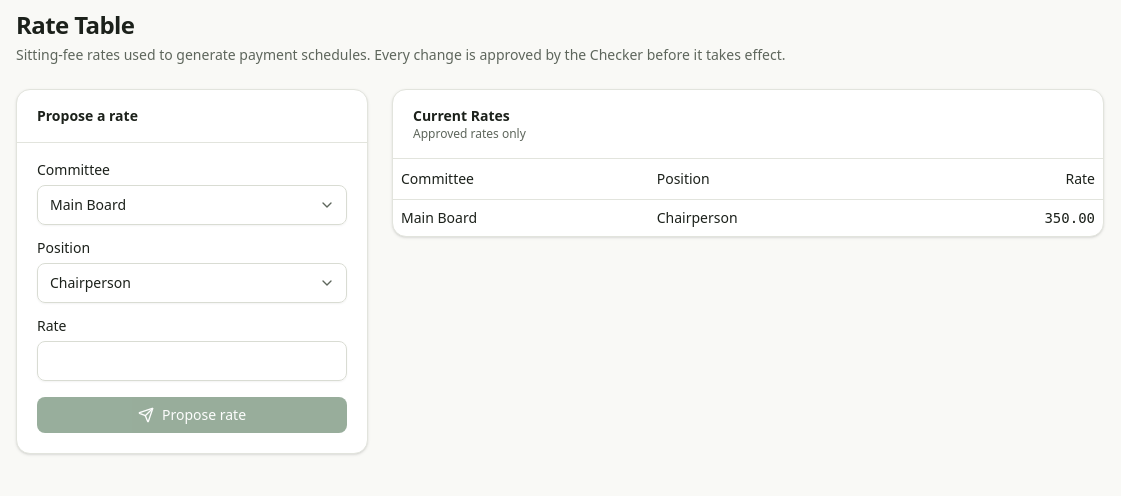
Test case: AdminRateTable › shows an inline, labelled validation error per field on a 400 response
In the number field labelled "Rate": (192, 361) [37, 341, 347, 381], type "400"
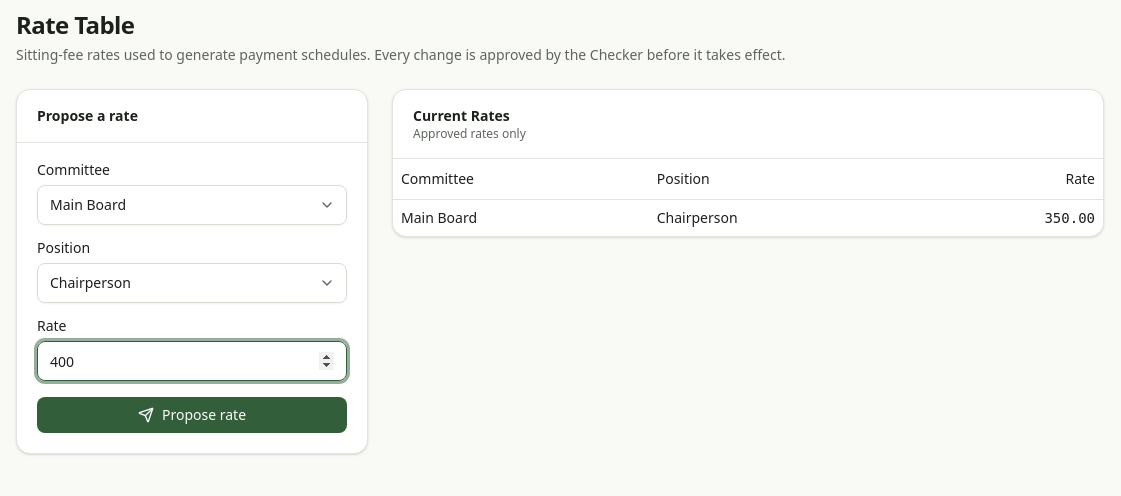
Click the button "Propose rate": (192, 415) [37, 397, 347, 433]
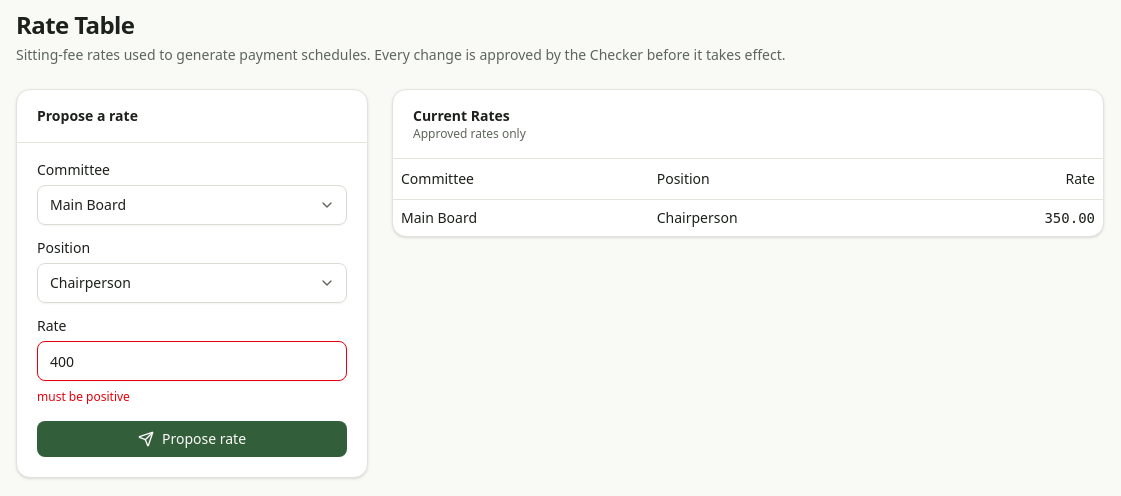
Now the text "must be positive" is shown, box [37, 388, 130, 405]
